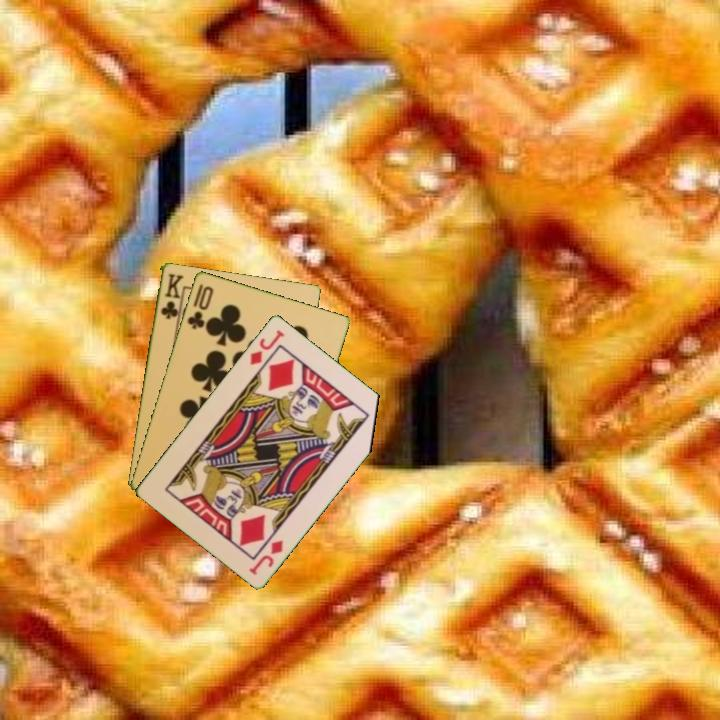10c: (183, 282, 216, 332)
Jd: (246, 325, 287, 368), (245, 536, 286, 577)
Kc: (157, 269, 185, 322)
